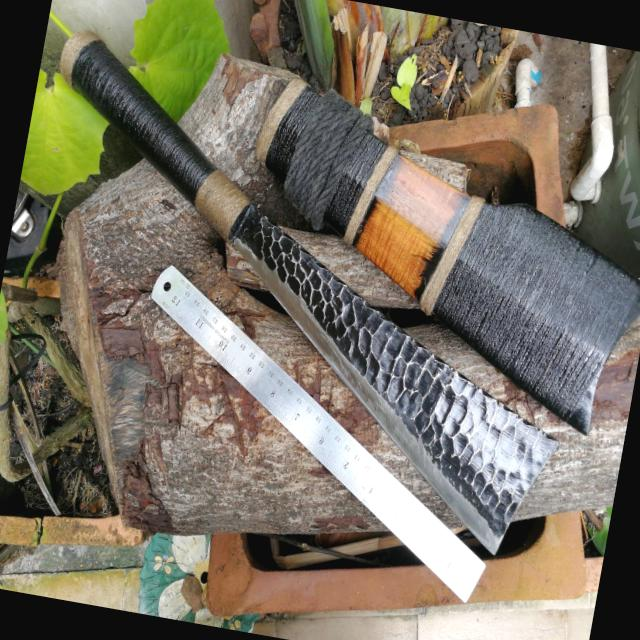eto: (43, 12, 571, 575)
